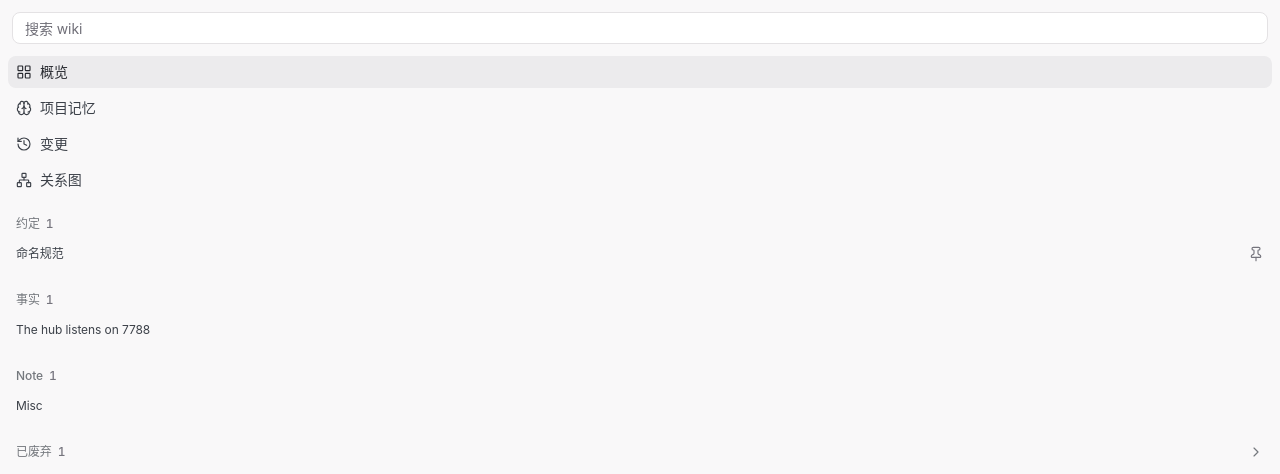
Test: WikiView › searches the pages by their text
Type "7788" into the search field labelled "搜索 wiki" at (640, 28), box [12,12,1268,44]
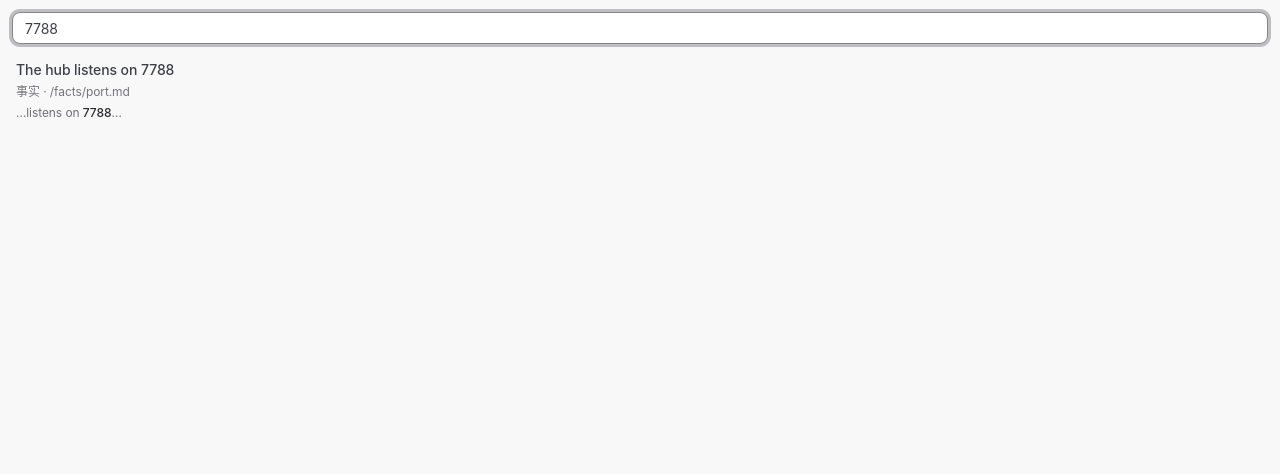
Check: the element showing "…listens on 7788…" is shown, box [16,105,122,120]
